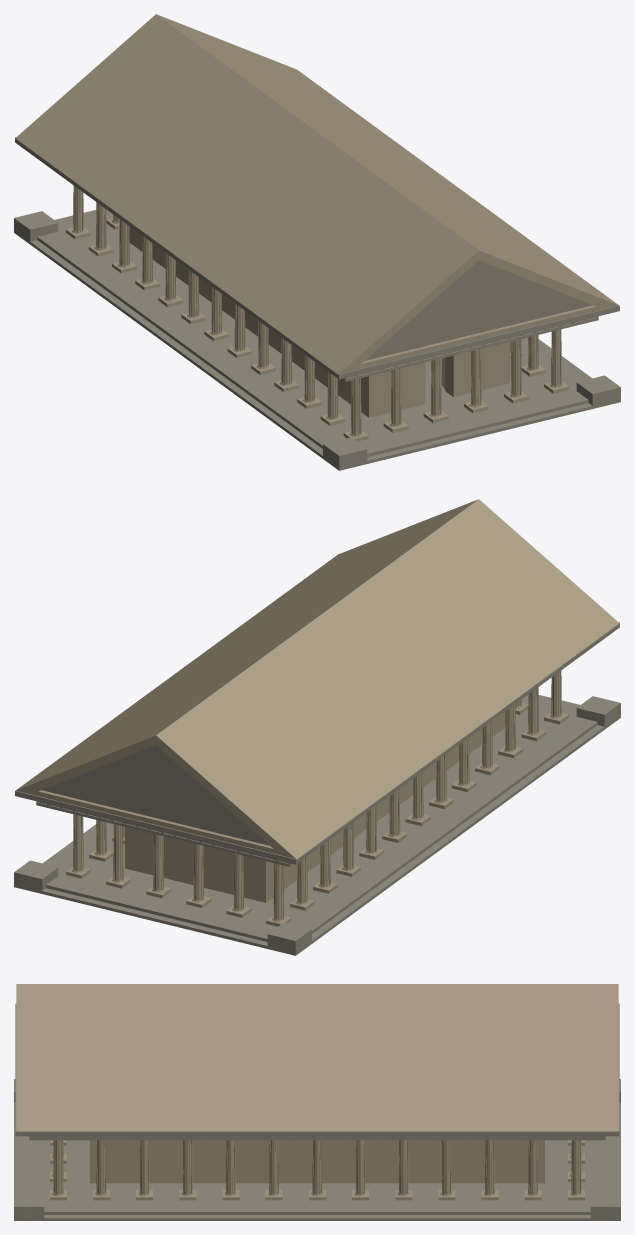
File: Templo.fbx
3 renders of one model, top to bottom at view 1: azimuth 30°, elevation 25°; view 2: azimuth 150°, elevation 25°; view 3: azimuth 270°, elevation 25°, orthographic. The views are drawn at different scales.
Parts seen in each view (by area): view 1: Cube.024; view 2: Cube.024; view 3: Cube.024.
Part boxes in pixels (left/top/right/bottom): Cube.024: left=14, top=14, right=620, bottom=470; Cube.024: left=14, top=499, right=620, bottom=955; Cube.024: left=14, top=984, right=620, bottom=1220.
Bounding box in the file's own units: 4002 × 2513 × 8002.
